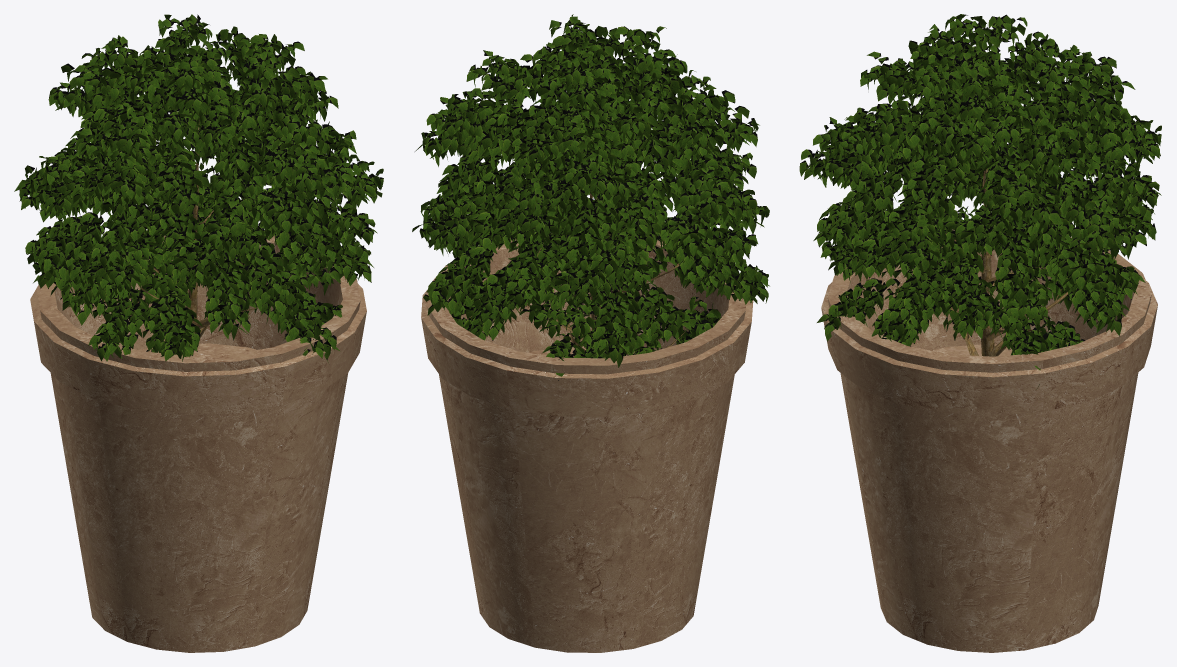
Rendered from pot-v1_mobile.glb.
The picture shows the model from 3 angles, left to right: view 1: azimuth 30°, elevation 25°; view 2: azimuth 150°, elevation 25°; view 3: azimuth 270°, elevation 25°; orthographic projection.
Parts seen in each view (by area): view 1: tree, pot; view 2: tree, pot; view 3: tree, pot.
Boxes of the visible parts, x1,y1,x2,y2 form: tree: (14,14,383,362); pot: (30,230,366,652); tree: (412,14,769,380); pot: (421,233,753,652); tree: (799,14,1161,389); pot: (821,228,1157,652).
Size of the model in its own units: 0.0165 by 0.0284 by 0.0165.
Materials: 3 (3 with a texture image).
